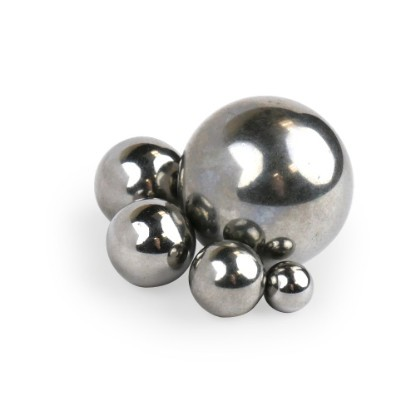ironball: (178, 94, 354, 269), (105, 197, 195, 287), (93, 135, 181, 221), (188, 239, 266, 317), (263, 260, 313, 312)
